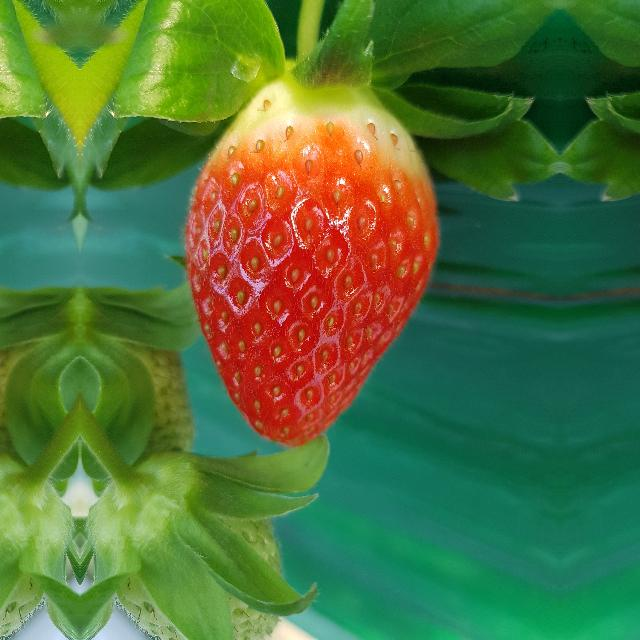Health_75: (182, 75, 440, 448)
